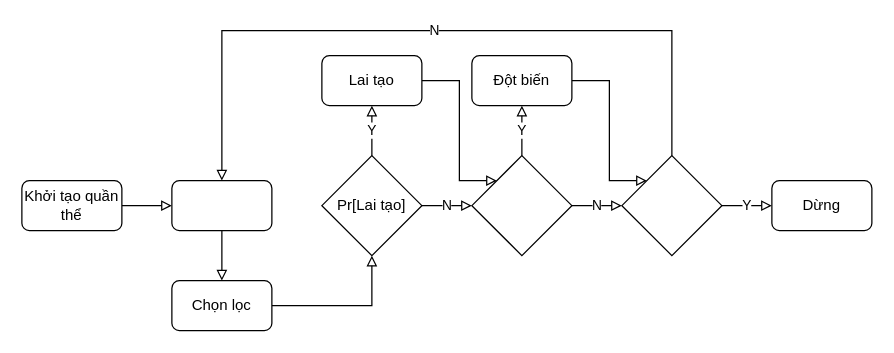
Image size: 894x353. Some labels were removed from this diagram. The shapes that lost their labels are listed below. From the top down, each one's centre as x and y in pixels, then its label:
At pixel 221 205: "Hàm thích nghi".
At pixel 521 205: "Pr[Đột biến]".
At pixel 671 205: "Điều kiện dừng".
